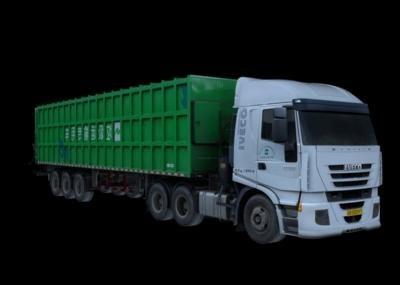truck: (30, 78, 386, 244)
